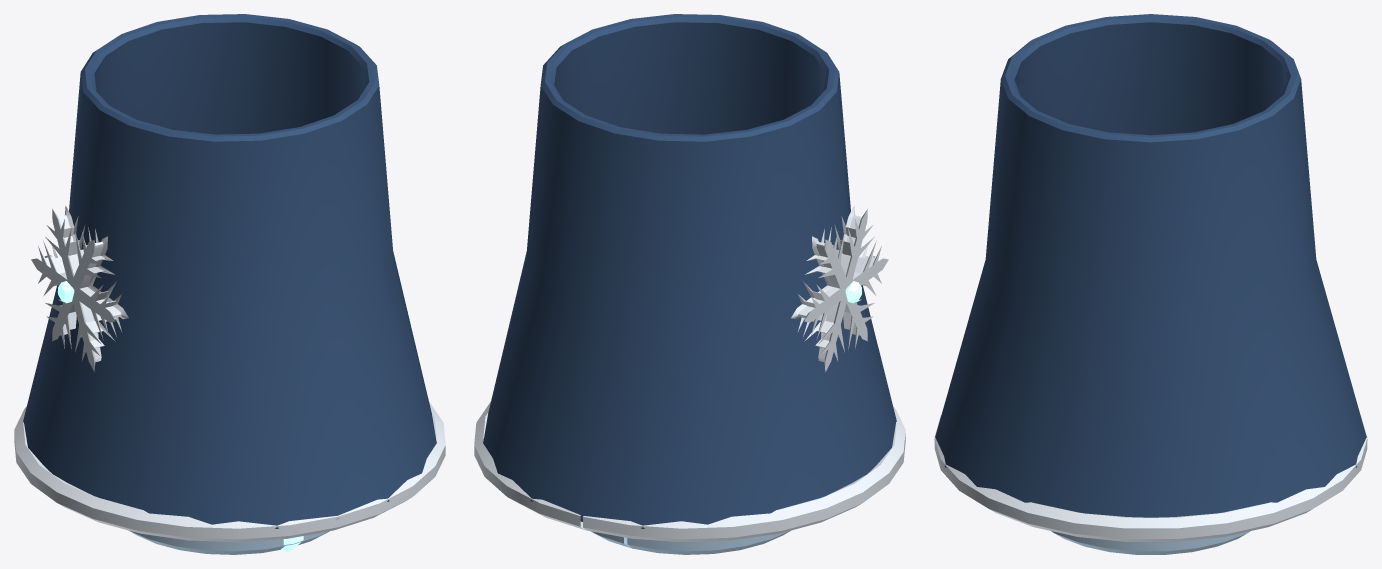
The model's file is boss_winter_court_gloves_2.glb.
3 renders of one model, left to right at view 1: azimuth 30°, elevation 25°; view 2: azimuth 150°, elevation 25°; view 3: azimuth 270°, elevation 25°, orthographic.
Visible parts, largest first — view 1: boss_winter_court_gloves_2; view 2: boss_winter_court_gloves_2; view 3: boss_winter_court_gloves_2.
Boxes of the visible parts, x1=… form: boss_winter_court_gloves_2: x1=14, y1=14, x2=445, y2=554; boss_winter_court_gloves_2: x1=474, y1=14, x2=905, y2=554; boss_winter_court_gloves_2: x1=934, y1=14, x2=1367, y2=554.
Bounding box in the file's own units: 0.221 × 0.2464 × 0.2227.
